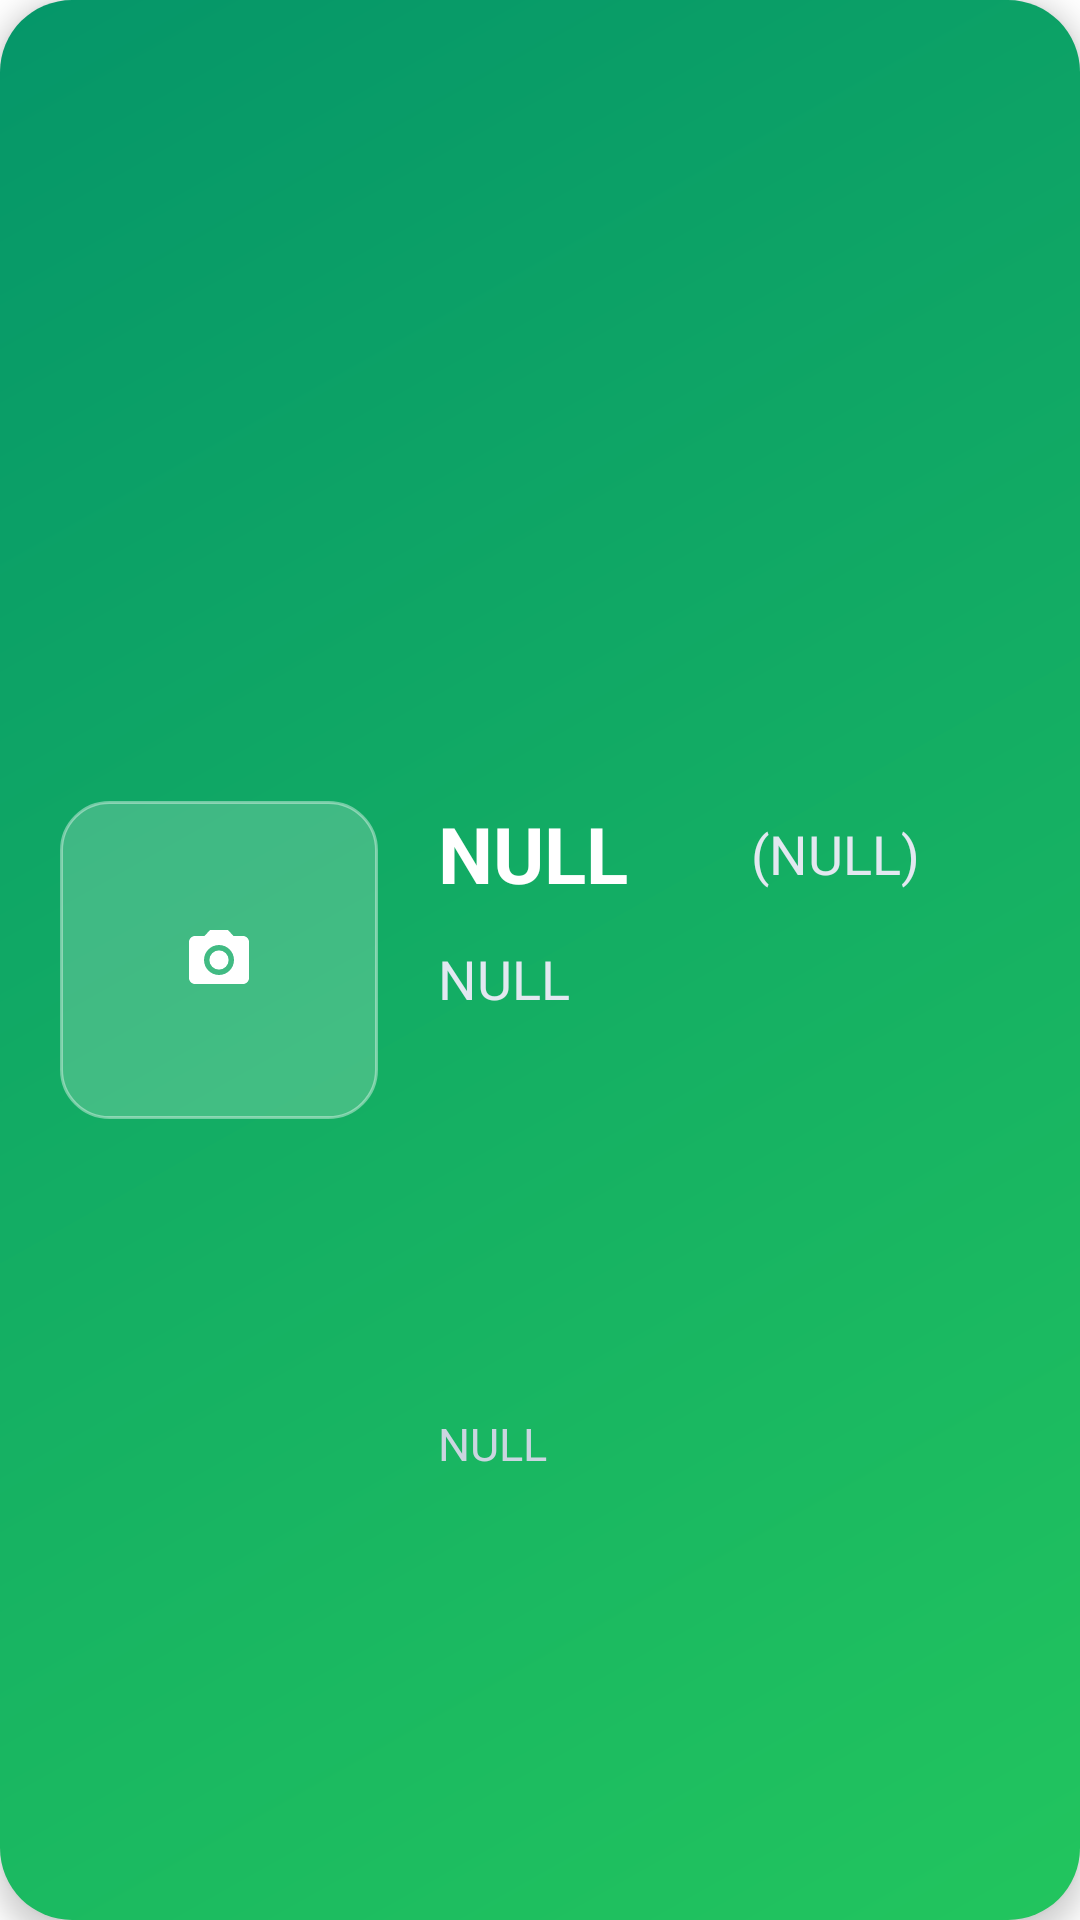

Icons on this 1080px x 1920px Android screen, each with its box as [x1,y1,x2,y2]:
camera: [60,801,378,1119]
